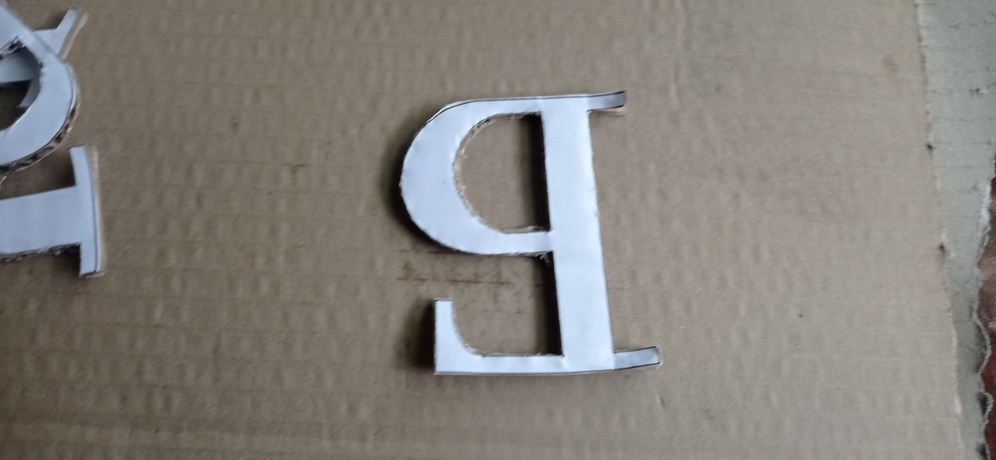b: (400, 90, 662, 374)
